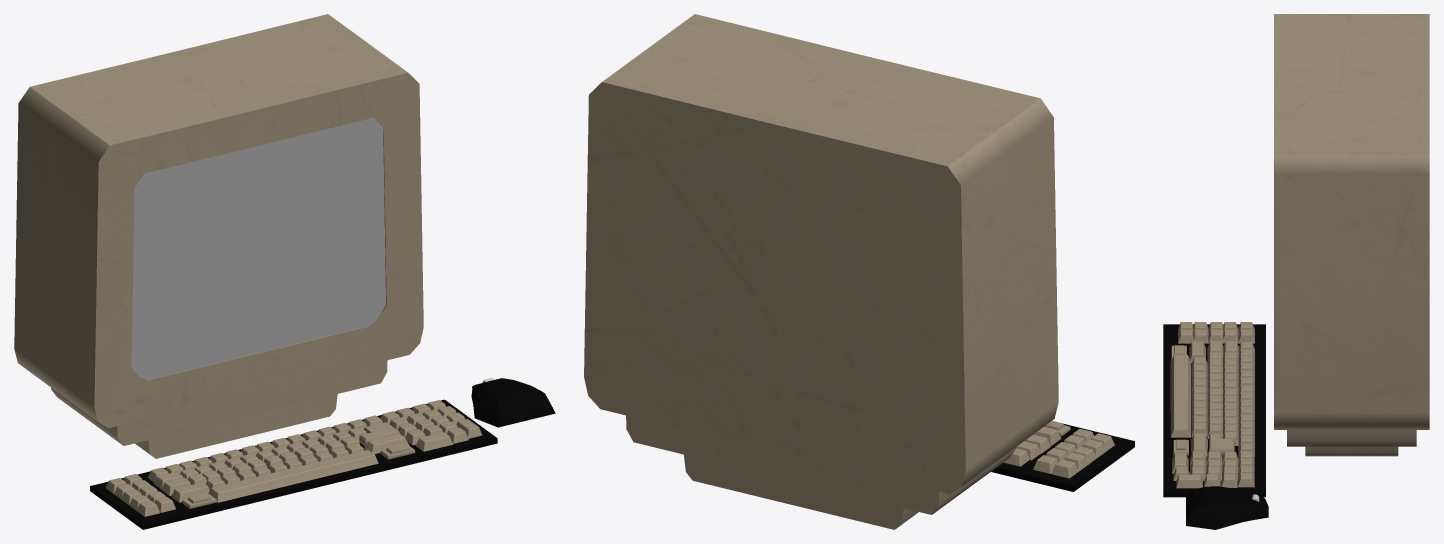
File: Computer_Terminal.fbx
3 views of the same model, side by side, from view 1: azimuth 30°, elevation 25°; view 2: azimuth 150°, elevation 25°; view 3: azimuth 270°, elevation 25° (orthographic). The views are drawn at different scales.
Parts seen in each view (by area): view 1: screen, Keyboard, mouse; view 2: screen, Keyboard; view 3: screen, Keyboard, mouse.
Part boxes in pixels (x1,y1,x2,y2): screen: (14,14,423,458); Keyboard: (90,399,497,529); mouse: (471,378,555,427); screen: (584,14,1058,529); Keyboard: (991,420,1134,491); screen: (1274,14,1429,456); Keyboard: (1163,322,1265,497); mouse: (1186,486,1268,529).
Size of the model in its own units: 1.42 by 1.07 by 0.7815.
